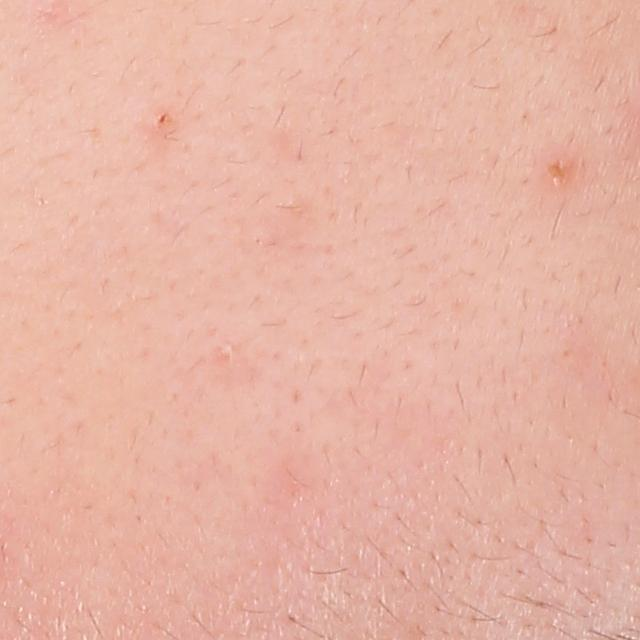papule: (535, 151, 578, 192)
